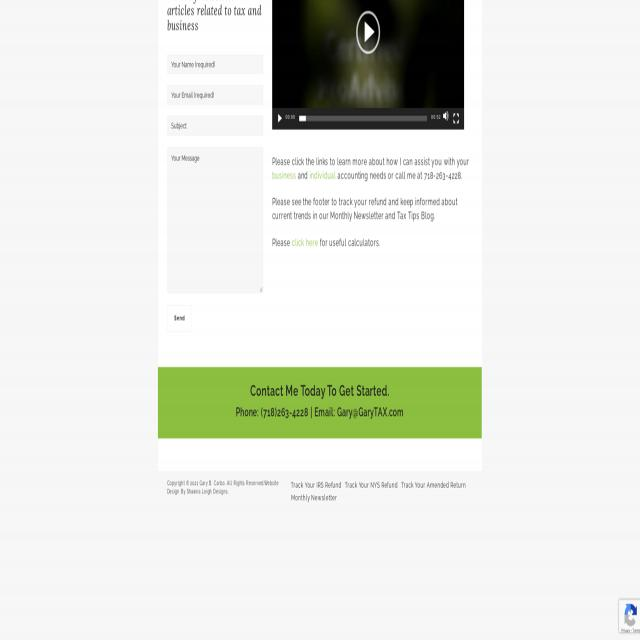button: (272, 0, 464, 130), (356, 11, 380, 56), (618, 600, 640, 634), (167, 305, 192, 332), (443, 110, 449, 121), (277, 113, 283, 124), (453, 113, 459, 124)
field: (167, 147, 263, 293), (167, 86, 263, 106), (167, 116, 263, 136), (167, 54, 263, 74)
